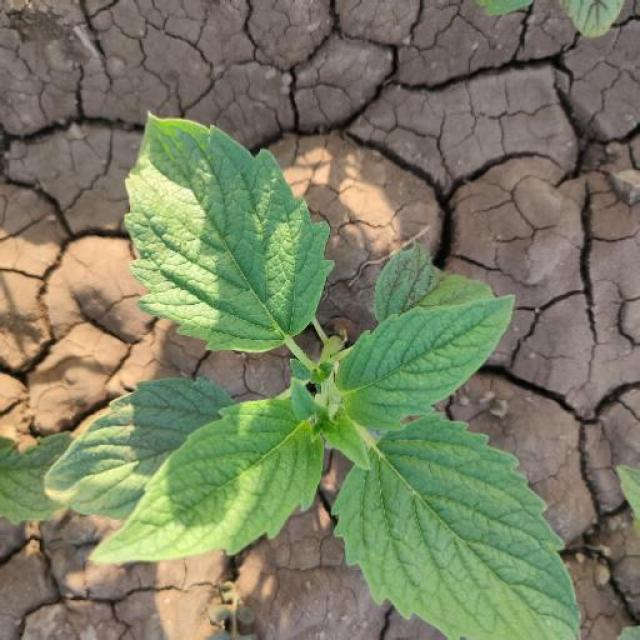crop: (40, 94, 590, 638)
